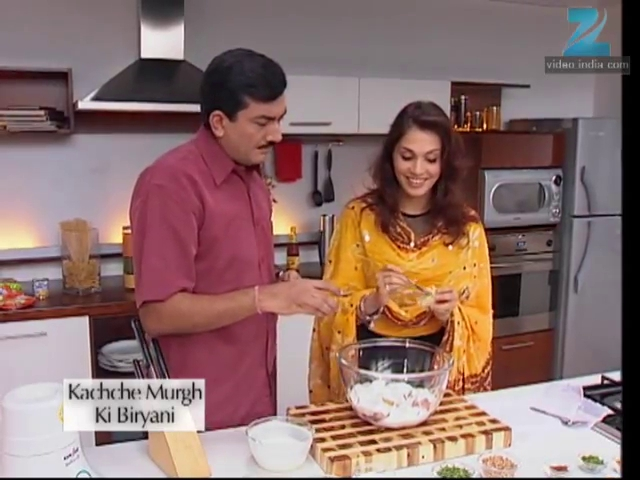person: (129, 48, 345, 431), (308, 101, 493, 403)
